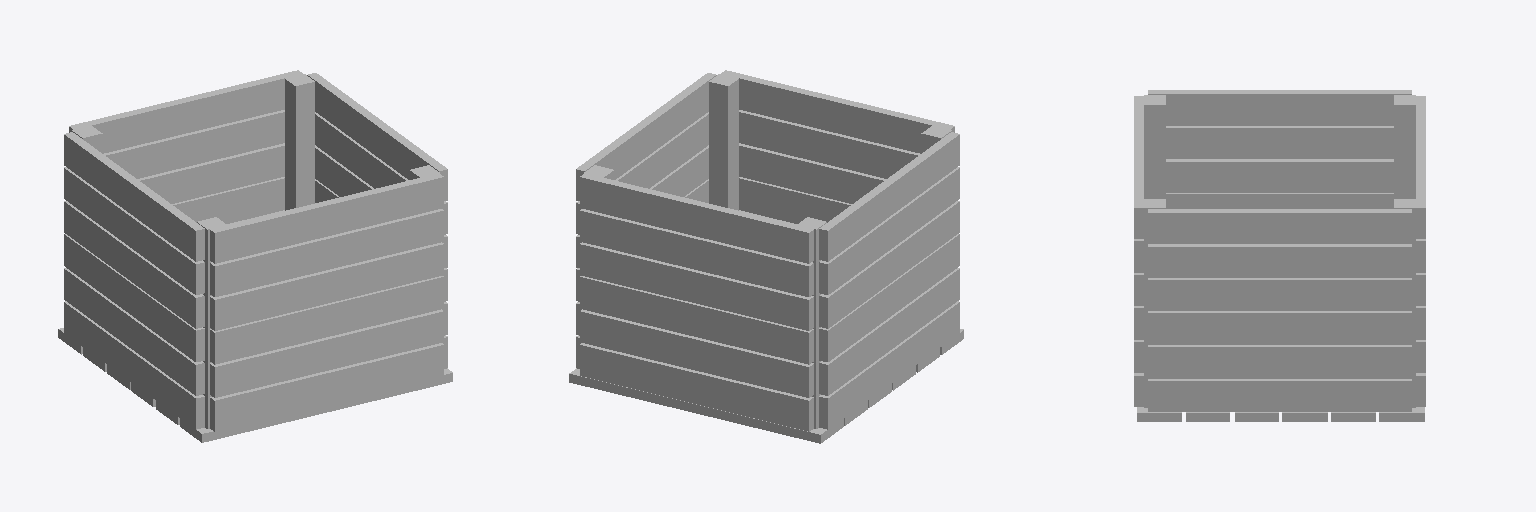
File: KIST.obj
3 views of the same model, side by side, from view 1: azimuth 30°, elevation 25°; view 2: azimuth 150°, elevation 25°; view 3: azimuth 270°, elevation 25° (orthographic).
Parts seen in each view (by area): view 1: Group; view 2: Group; view 3: Group.
Part boxes in pixels (x1,y1,x2,y2): Group: (58, 70, 452, 442); Group: (569, 70, 963, 443); Group: (1134, 90, 1425, 421).
Bounding box in the file's own units: 73.84 × 58.35 × 74.01.